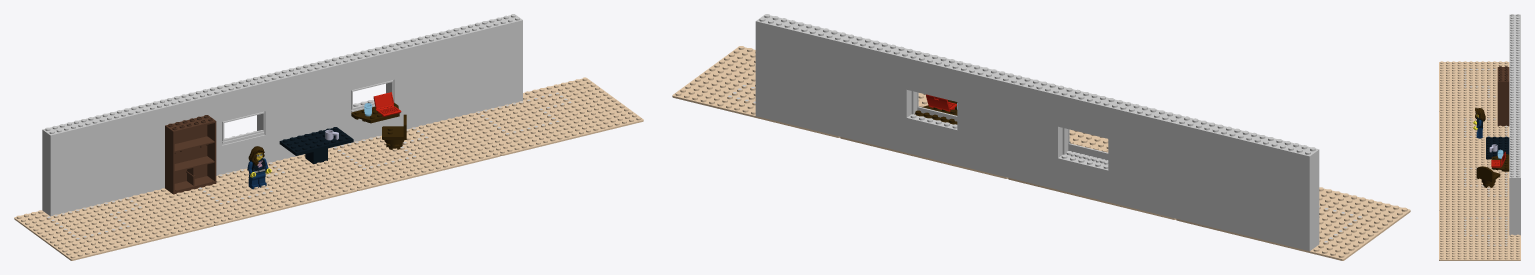
The model's file is room.dae.
3 renders of one model, left to right at view 1: azimuth 30°, elevation 25°; view 2: azimuth 150°, elevation 25°; view 3: azimuth 270°, elevation 25°, orthographic. The views are drawn at different scales.
Size of the model in its own units: 1600 by 280 by 258.
